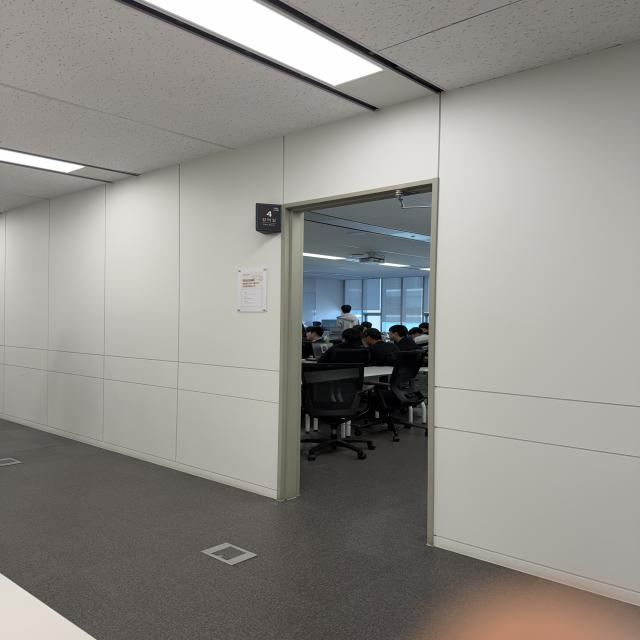sign: (256, 203, 281, 234)
